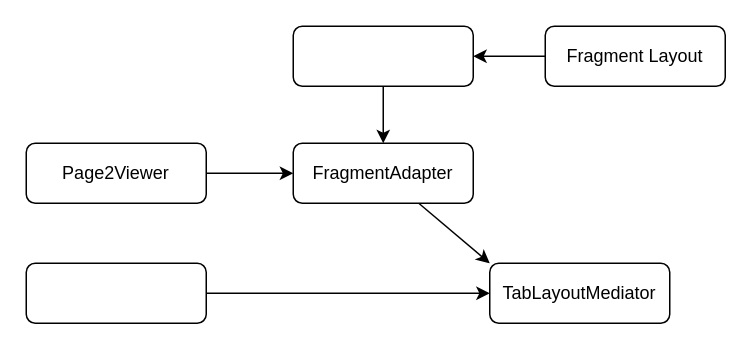
Image size: 752x350. Some labels were removed from this diagram. Each missing label, with the centre of its shape:
Fragment Class: (382,55)
TabLayout: (115,292)
